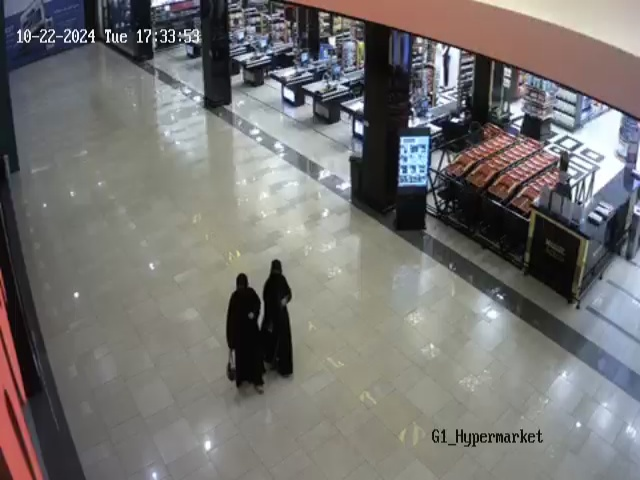female: (226, 273, 266, 395), (261, 259, 294, 378)
